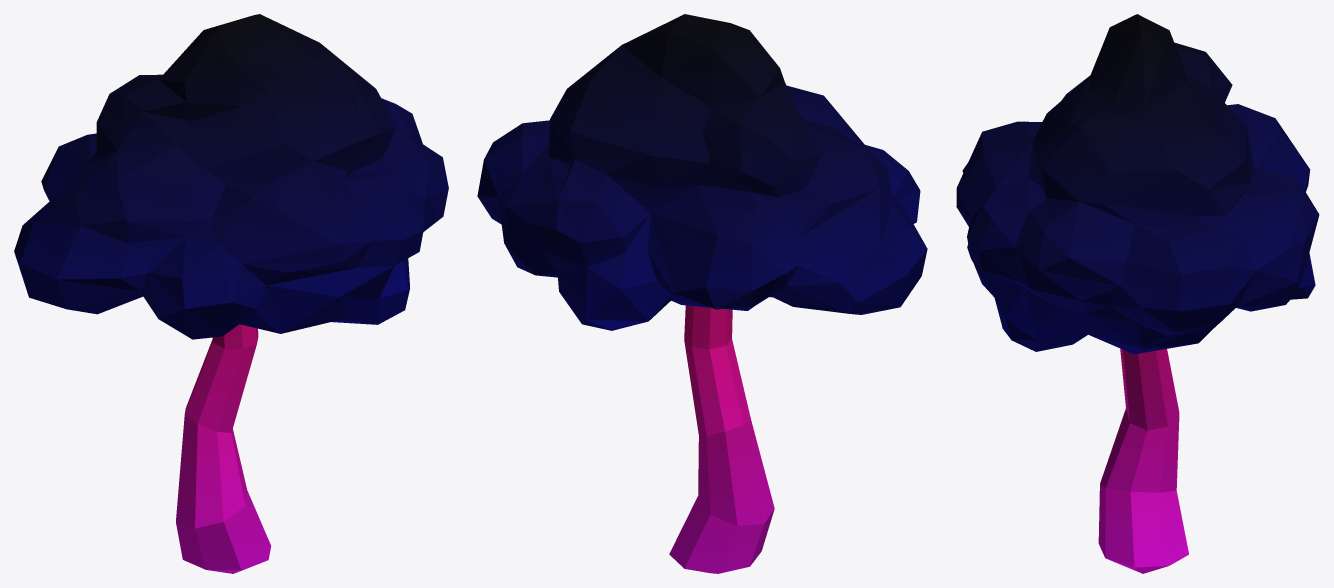
The model's file is synty-tree-round-01.gltf.
3 views of the same model, side by side, from view 1: azimuth 30°, elevation 25°; view 2: azimuth 150°, elevation 25°; view 3: azimuth 270°, elevation 25° (orthographic).
Visible parts, largest first — view 1: SM_Tree_Round_01; view 2: SM_Tree_Round_01; view 3: SM_Tree_Round_01.
Part boxes in pixels (bbox=[...]): SM_Tree_Round_01: bbox=[14, 14, 448, 573]; SM_Tree_Round_01: bbox=[477, 14, 927, 573]; SM_Tree_Round_01: bbox=[956, 14, 1319, 573].
Size of the model in its own units: 2.92 by 3.76 by 2.24.
